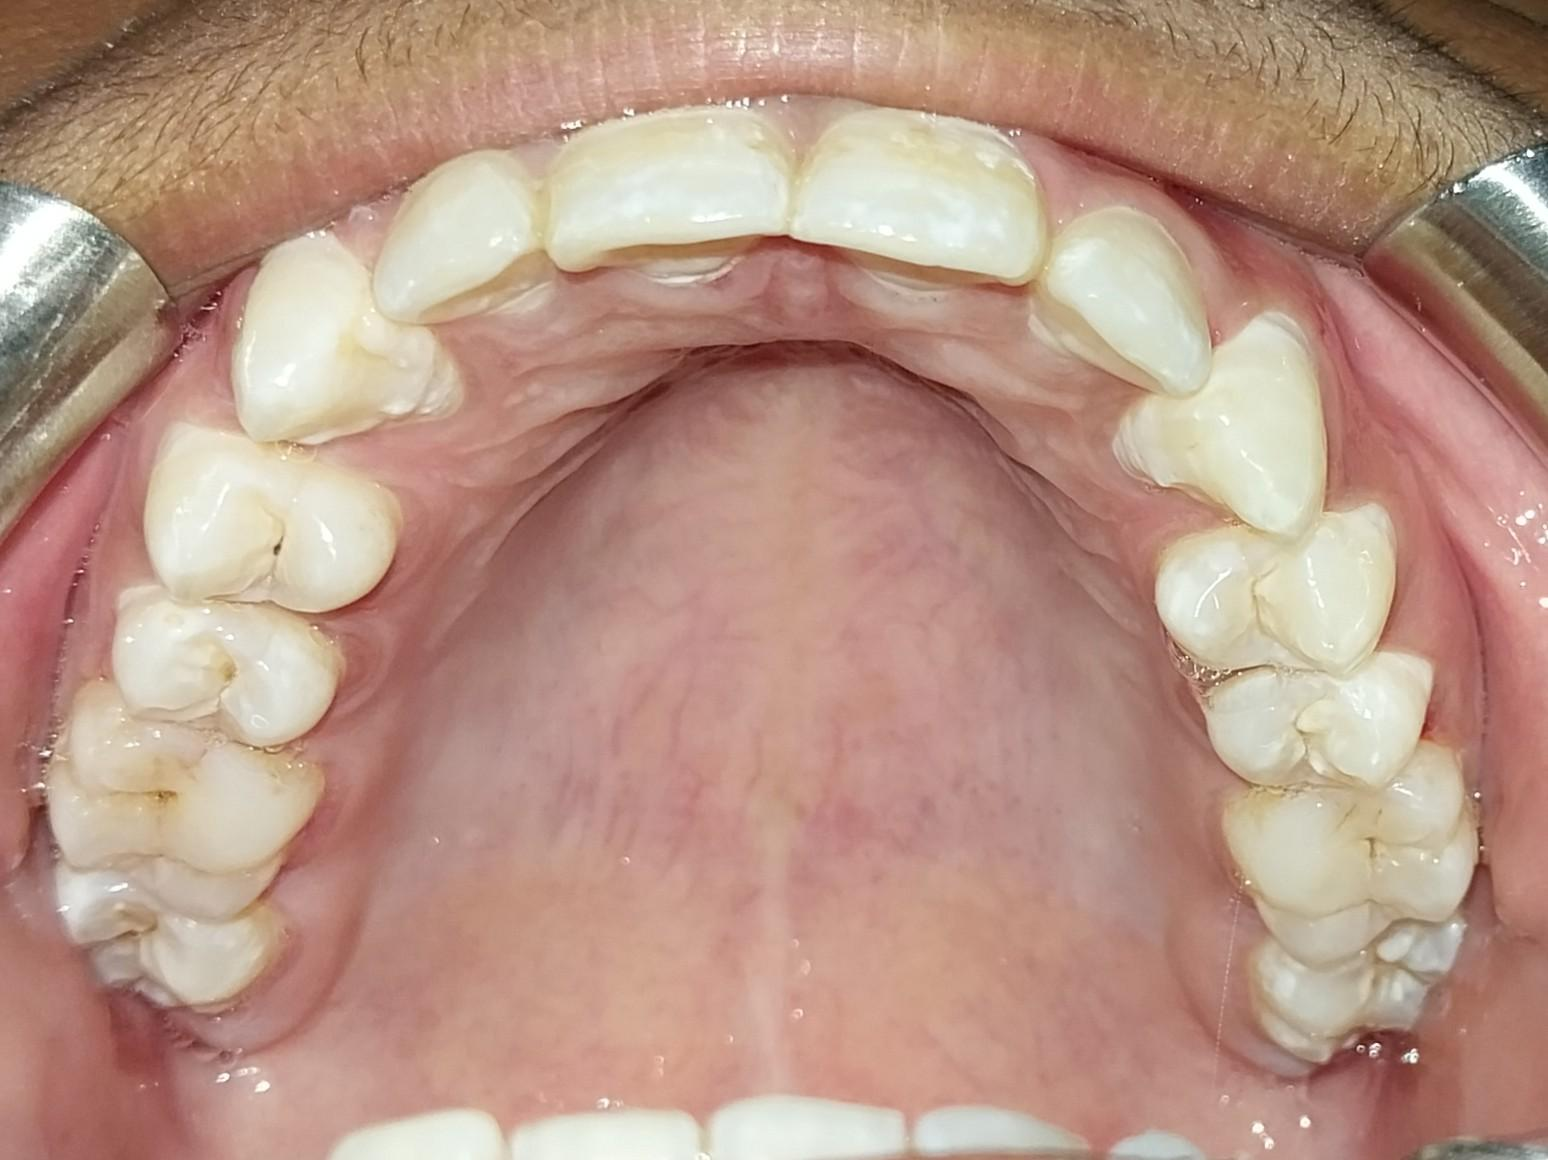D: (146, 432, 399, 617)
